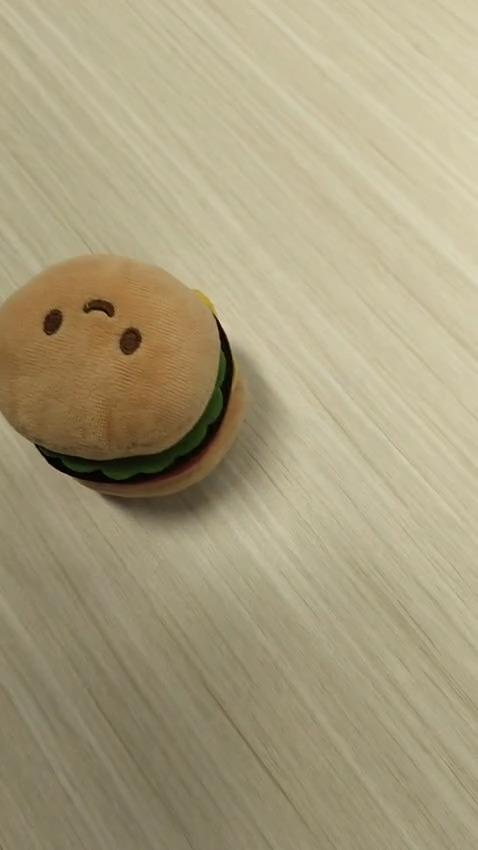hamburger: (0, 251, 248, 500)
